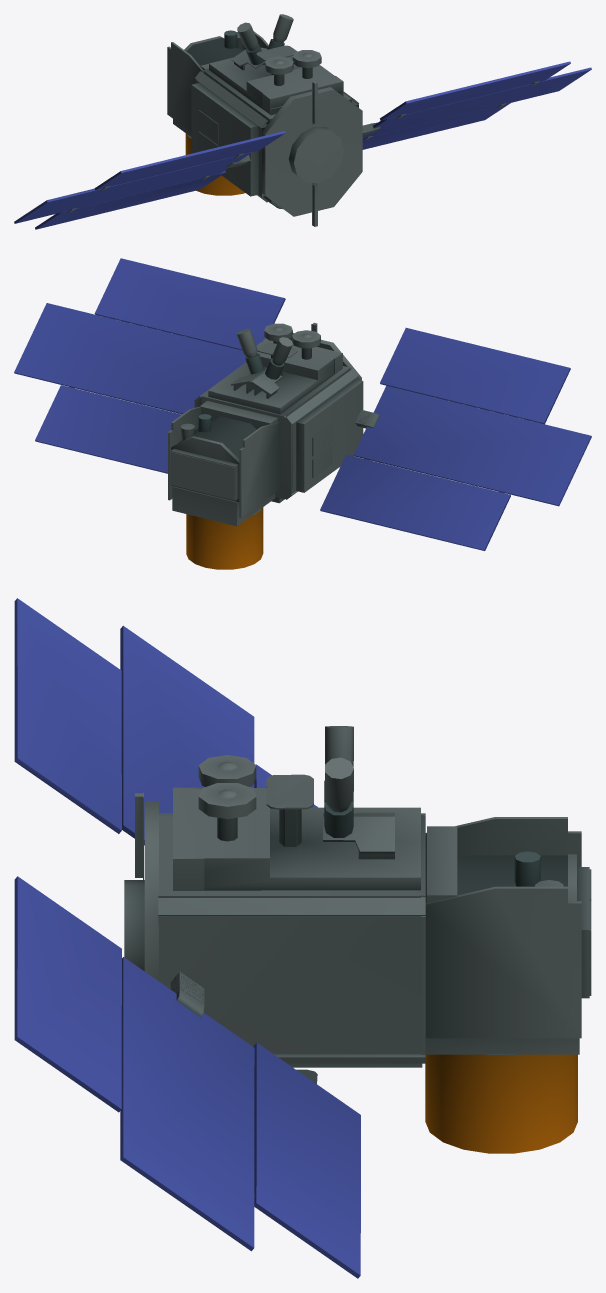
Rendered from space-satellites-satellite_v1.fbx.
3 renders of one model, top to bottom at view 1: azimuth 30°, elevation 25°; view 2: azimuth 150°, elevation 25°; view 3: azimuth 270°, elevation 25°, orthographic. The views are drawn at different scales.
Parts seen in each view (by area): view 1: Satellite_v1; view 2: Satellite_v1; view 3: Satellite_v1.
Part boxes in pixels (x1=…): Satellite_v1: x1=14, y1=14, x2=591, y2=229; Satellite_v1: x1=14, y1=258, x2=591, y2=569; Satellite_v1: x1=14, y1=598, x2=591, y2=1278.
Size of the model in its own units: 8 by 2.7 by 3.67.
